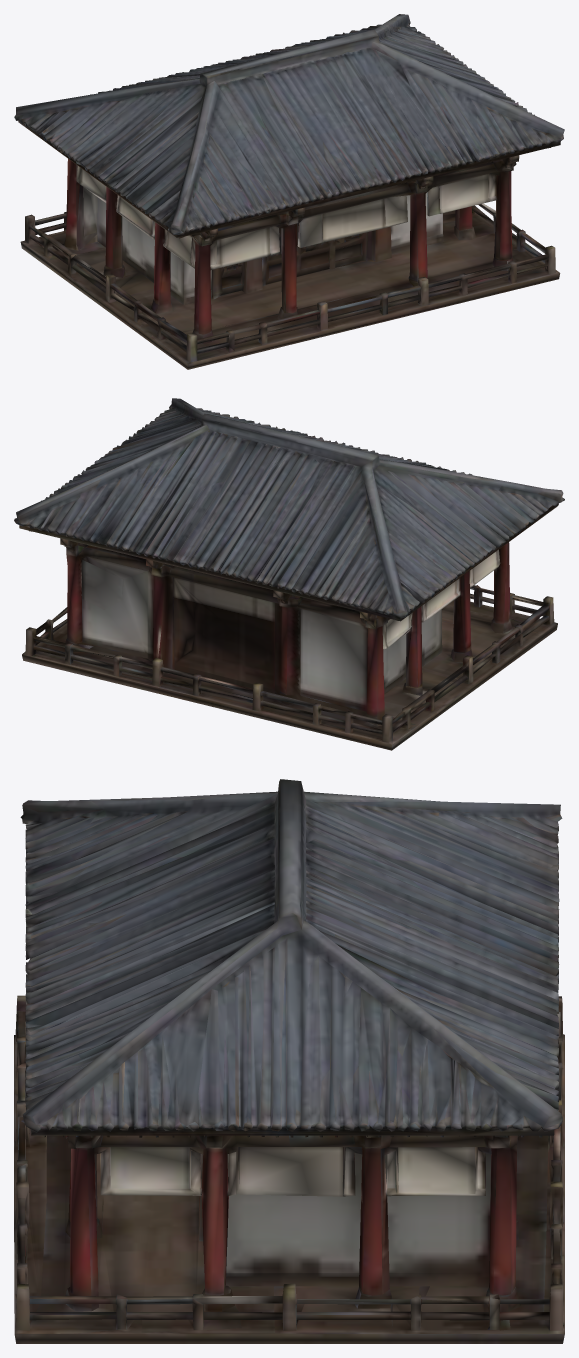
Rendered from pavilion_lod1.glb.
The picture shows the model from 3 angles, top to bottom: view 1: azimuth 30°, elevation 25°; view 2: azimuth 150°, elevation 25°; view 3: azimuth 270°, elevation 25°; orthographic projection. The views are drawn at different scales.
Visible parts, largest first — view 1: node_0; view 2: node_0; view 3: node_0.
Part boxes in pixels (bbox=[...]): node_0: bbox=[14, 14, 564, 369]; node_0: bbox=[14, 398, 564, 750]; node_0: bbox=[14, 779, 564, 1343].
Bounding box in the file's own units: 0.9257 × 0.4774 × 0.6796.
Materials: 1 (1 with a texture image).
